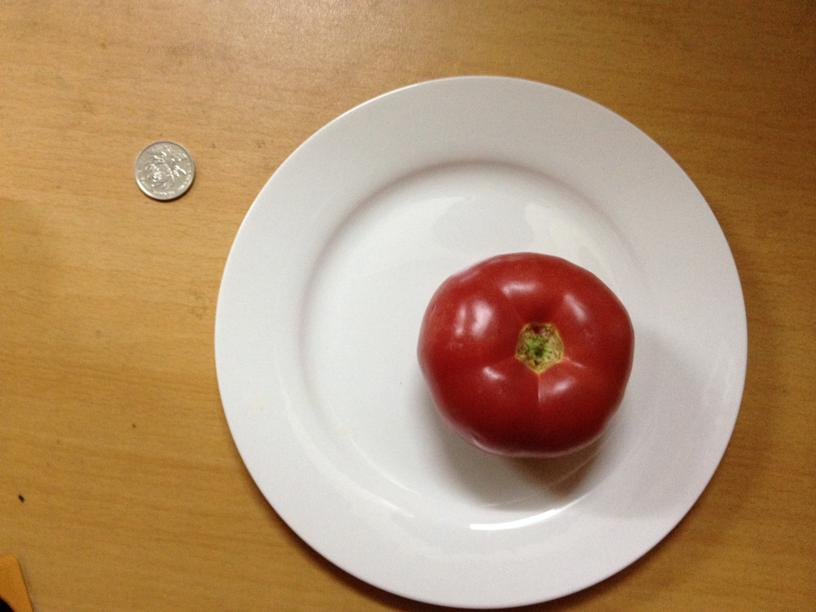coin: (133, 139, 196, 202)
tomato: (412, 256, 633, 457)
